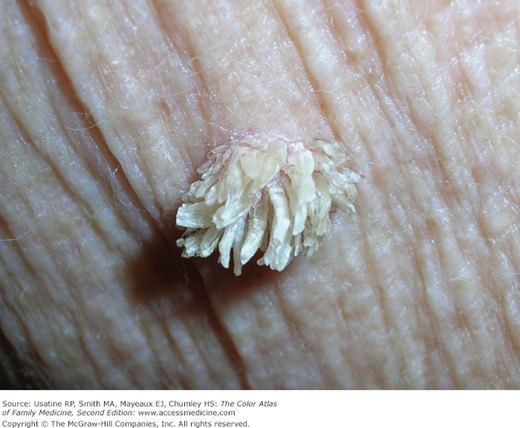Warts: (160, 116, 372, 288)
